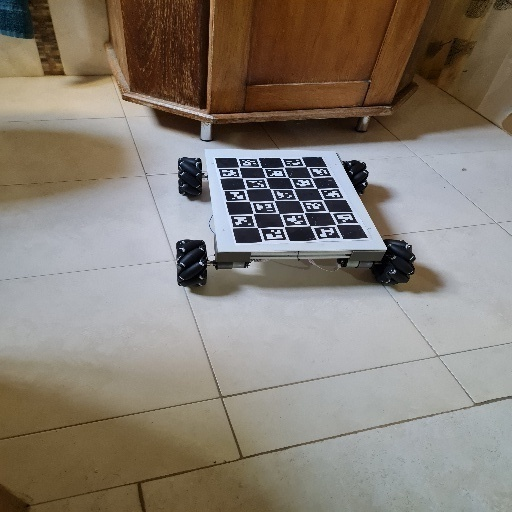Omniwheel: (174, 149, 418, 299)
